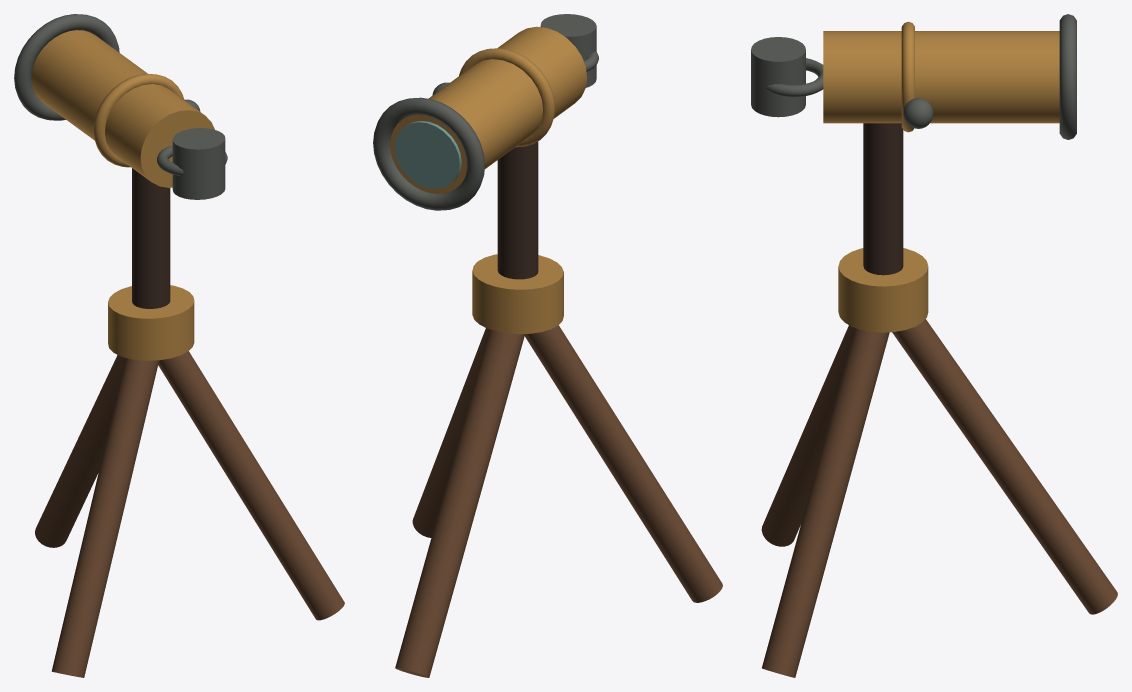
The model's file is detail_telescope.glb.
3 views of the same model, side by side, from view 1: azimuth 30°, elevation 25°; view 2: azimuth 150°, elevation 25°; view 3: azimuth 270°, elevation 25° (orthographic). The views are drawn at different scales.
Visible parts, largest first — view 1: wood, stone; view 2: wood, stone, object 3; view 3: wood, stone.
Part boxes in pixels (<box>): wood: <box>31,30,344,677</box>; stone: <box>14,14,227,199</box>; wood: <box>390,26,722,677</box>; stone: <box>373,14,598,210</box>; object 3: <box>394,121,461,188</box>; wood: <box>761,21,1117,677</box>; stone: <box>751,14,1076,139</box>.
Bounding box in the file's own units: 0.9 × 1.6 × 0.9.
